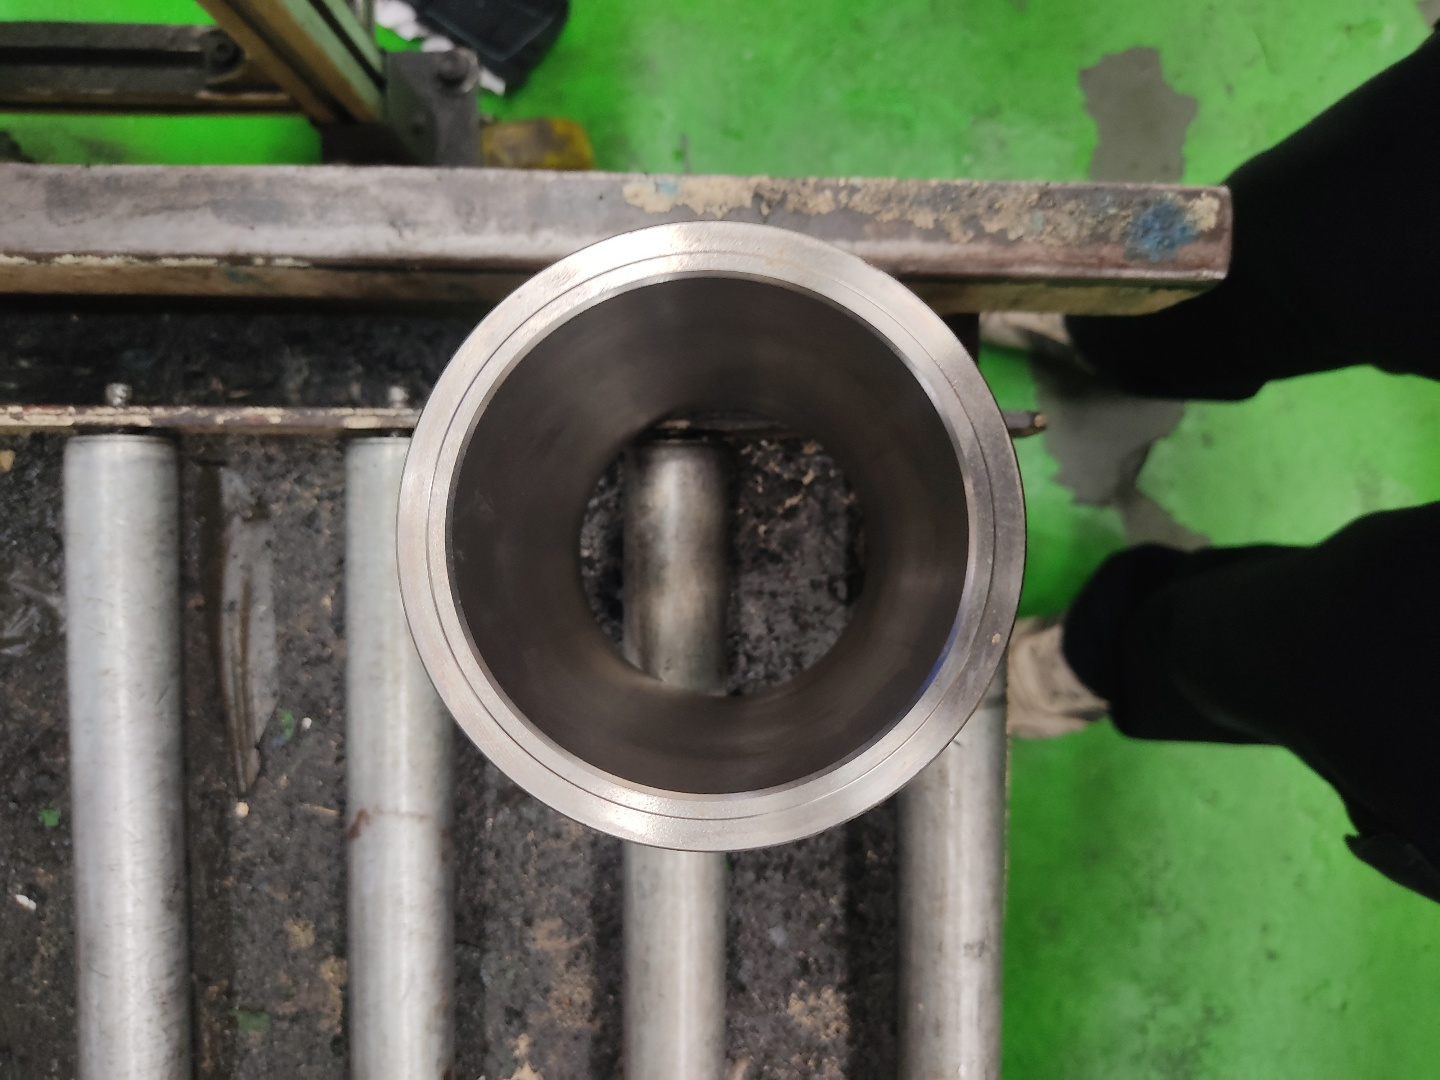cylinder: (392, 218, 1034, 858)
